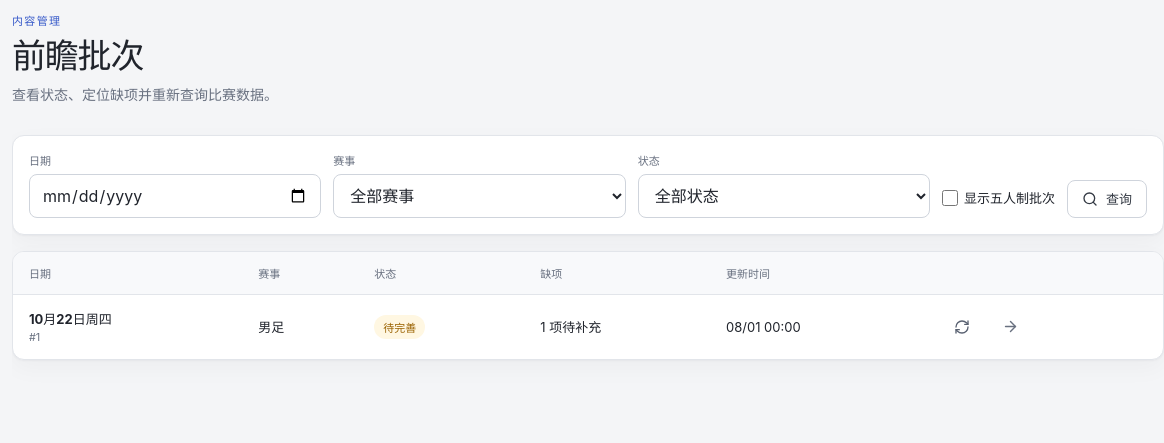
Scenario: batch and match pages › hides futsal batches until explicitly enabled
Expected: the number of links named "打开批次" is 1, [1002, 318, 1019, 335]
Click the checkbox labelled "显示五人制批次".
click(950, 198)  # box [942, 190, 958, 206]
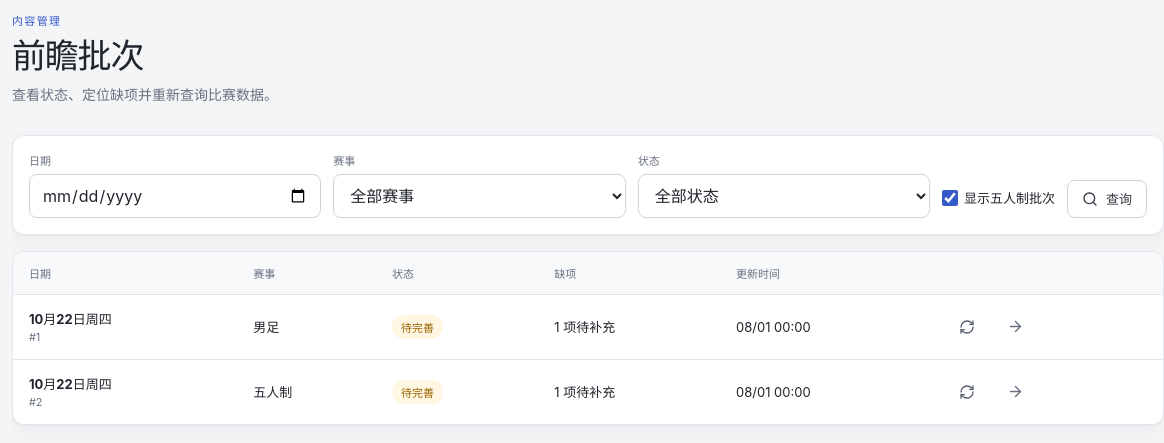
Expected: the number of links named "打开批次" is 2, [1007, 318, 1024, 335]; [1007, 383, 1024, 400]
